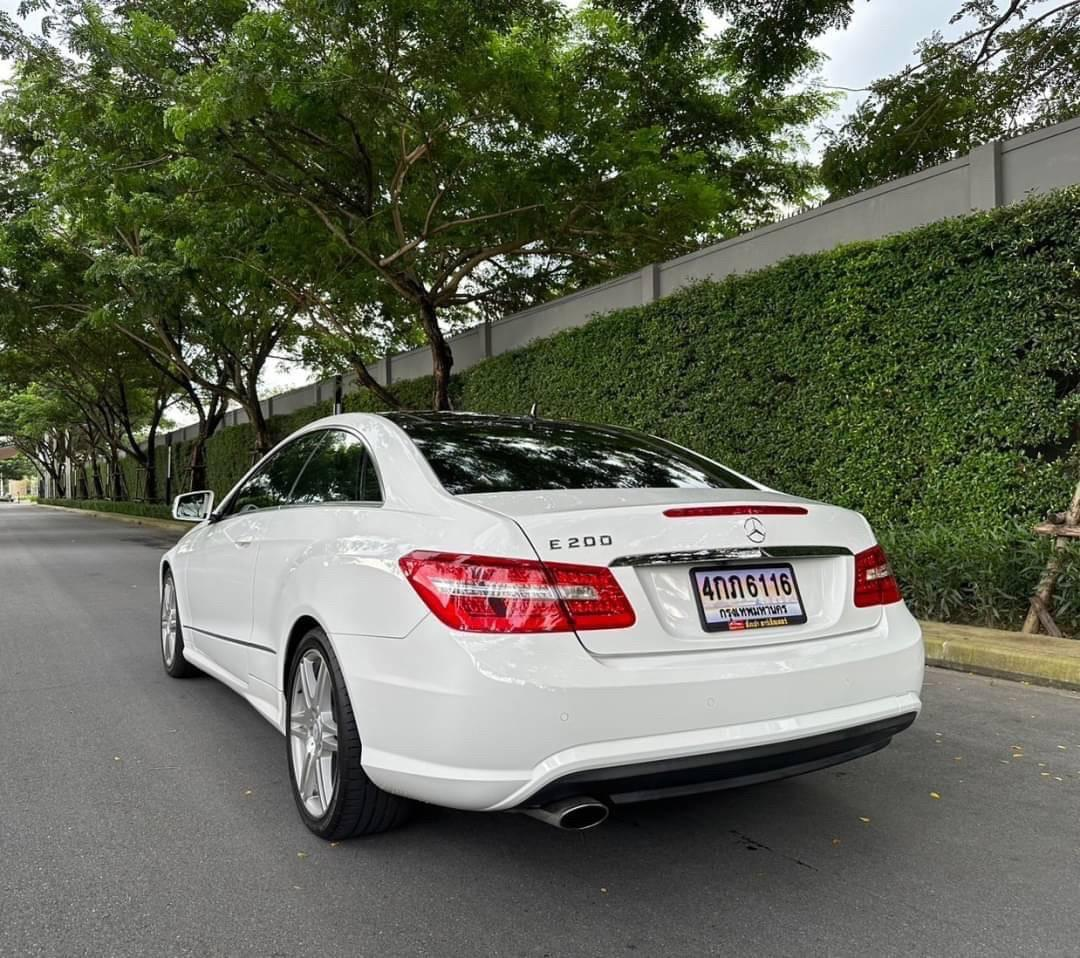license-plate: (690, 559, 813, 634)
